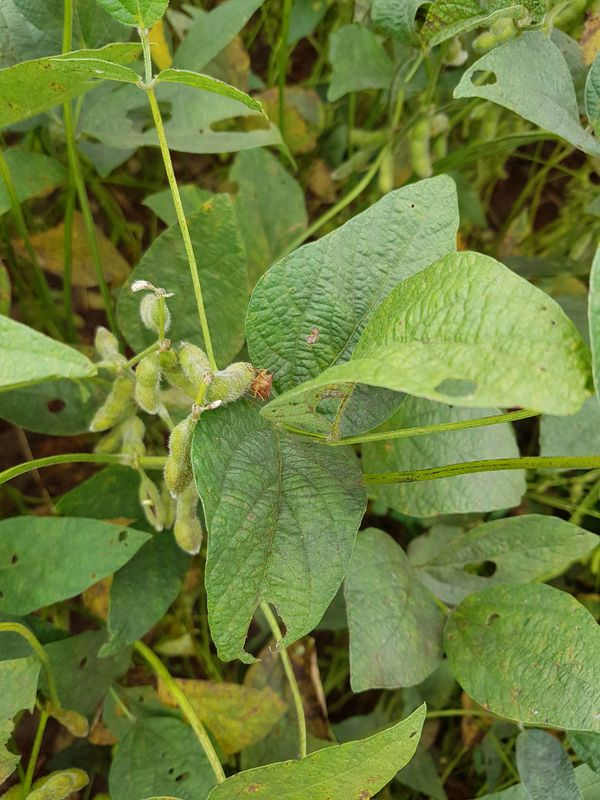Euschistus_heros_adulto: (233, 360, 283, 411)
